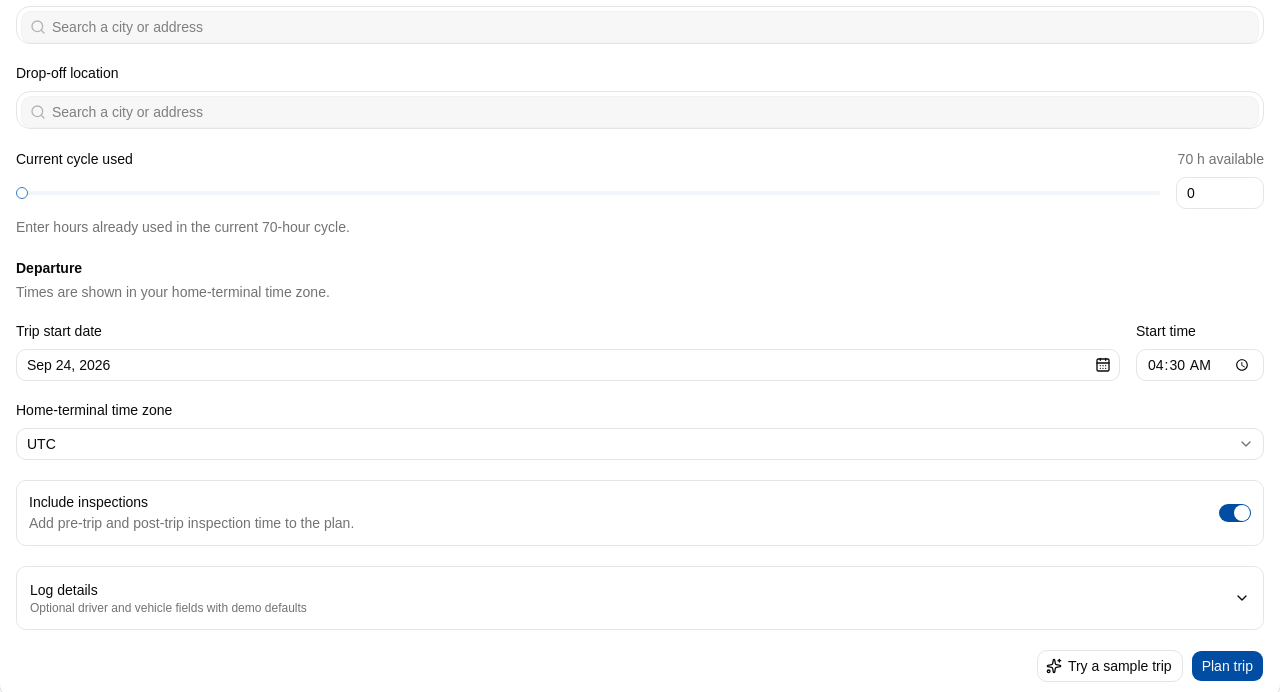
it: TripForm › shows API validation errors on the fields they belong to
(page scrolled)
Step 1. Click the button with test id "btn-sample-trip" → (1110, 666), box 1037,650 -> 1183,682
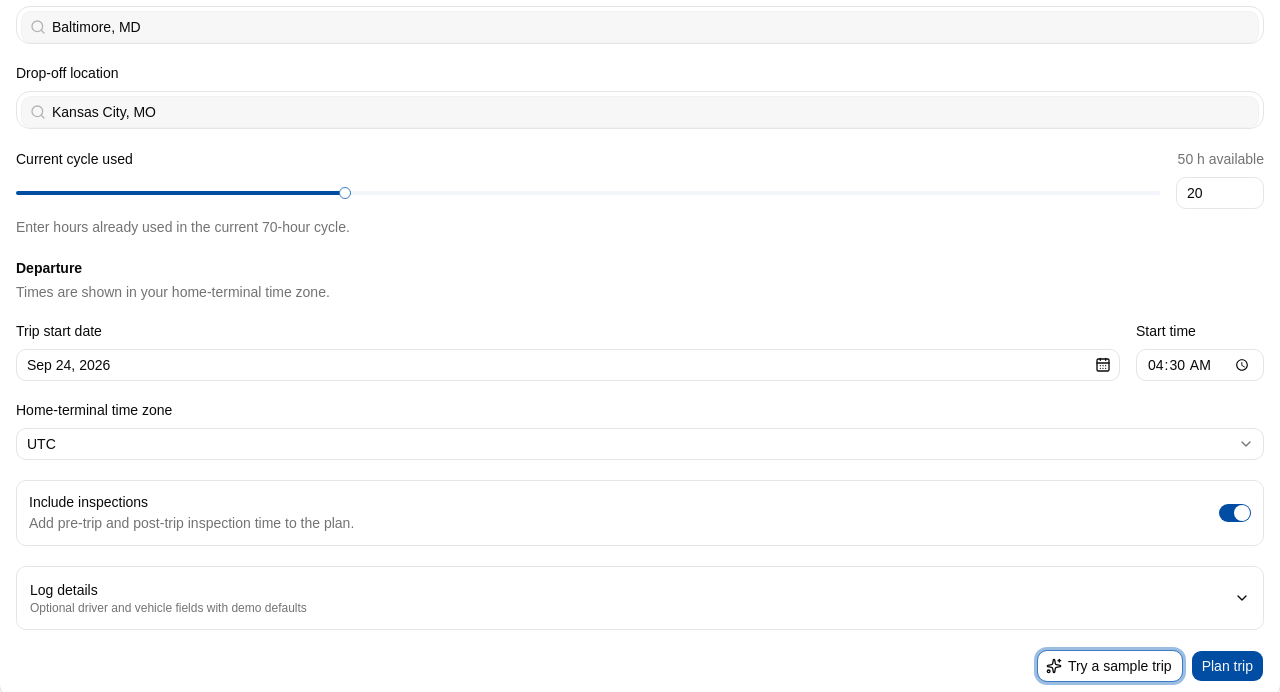
Step 2. Click the button with test id "btn-plan-trip" → (1227, 666), box 1191,650 -> 1264,682
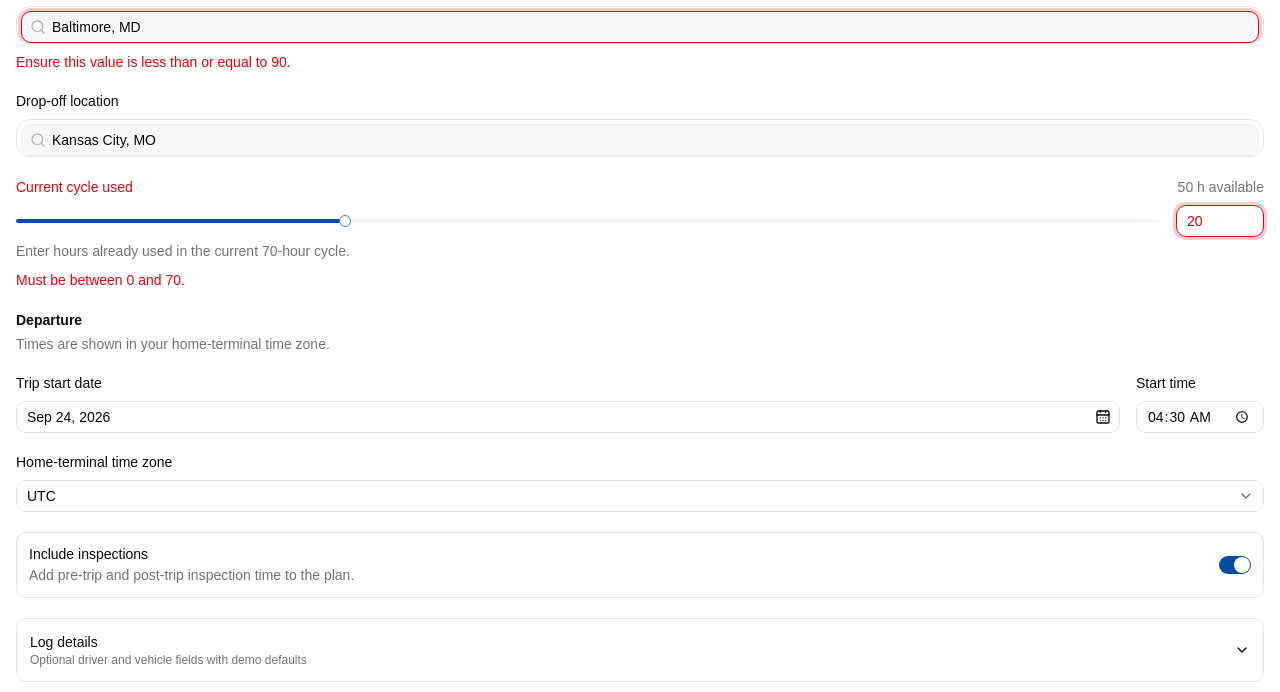
Now the text "Must be between 0 and 70." is shown, box 16,272 -> 185,288
Now the text "Ensure this value is less than or equal to 90." is shown, box 16,54 -> 291,70
Step 3. Click the button with test id "log-details" → (64, 642), box 17,618 -> 1263,680
(page scrolled)
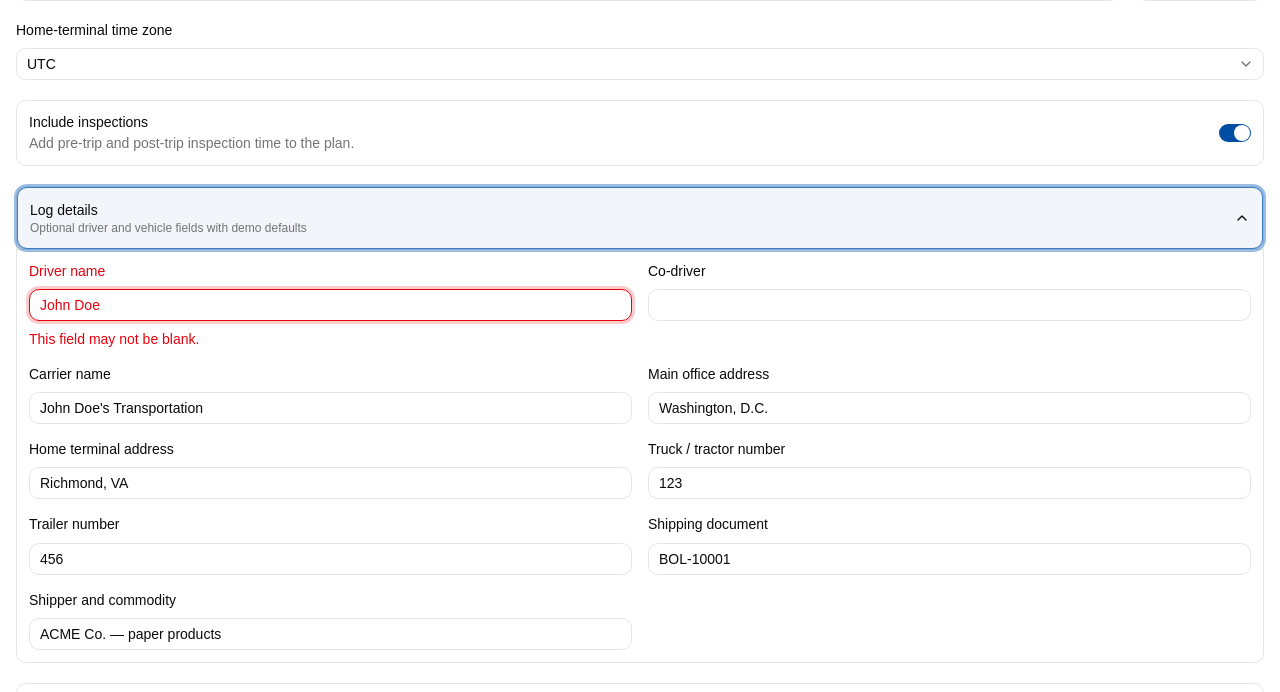
Now the text "This field may not be blank." is shown, box 29,331 -> 199,347
